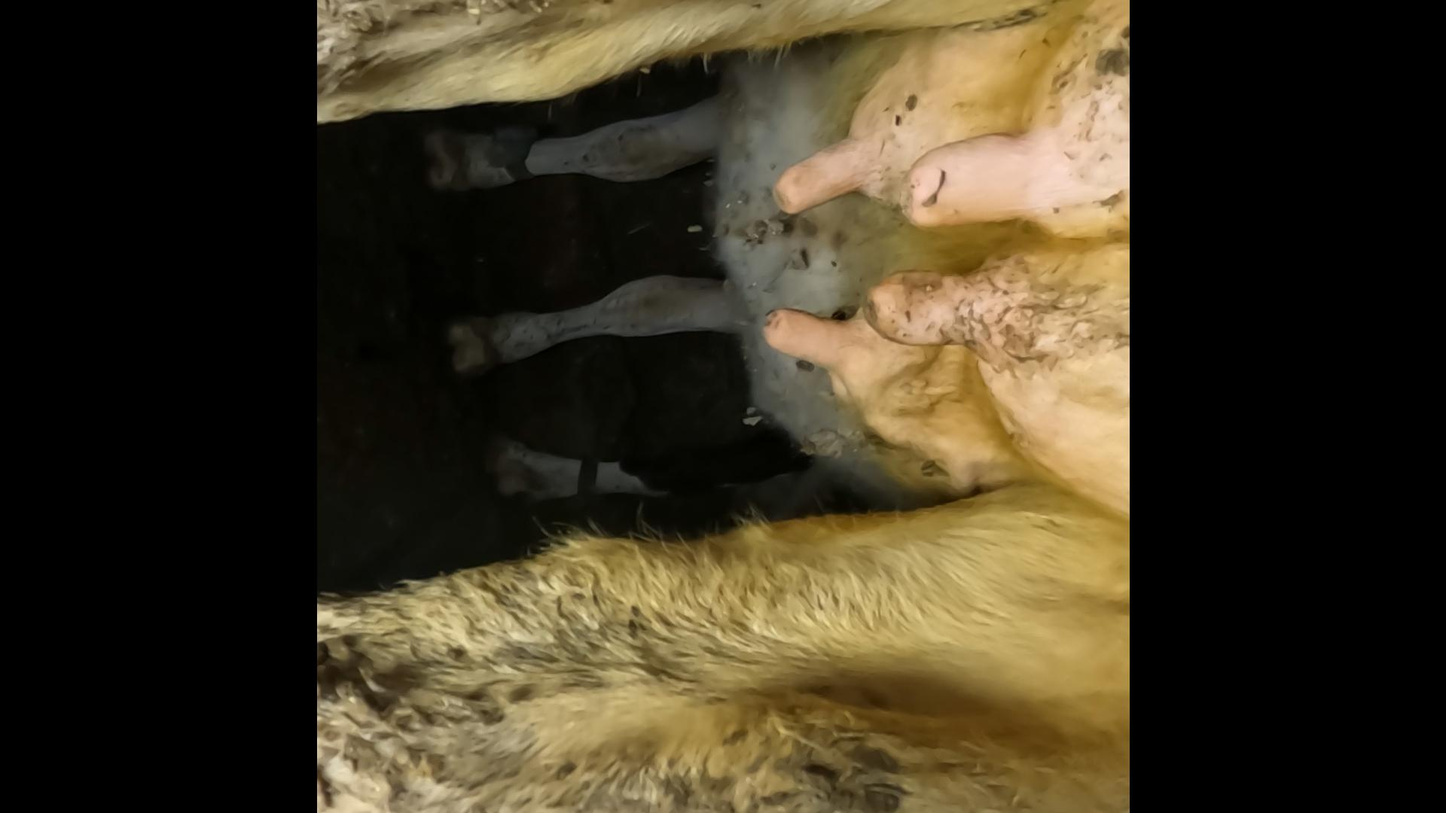Zitze: (883, 129, 1060, 248), (737, 131, 906, 215), (851, 259, 990, 361), (752, 302, 861, 374)
